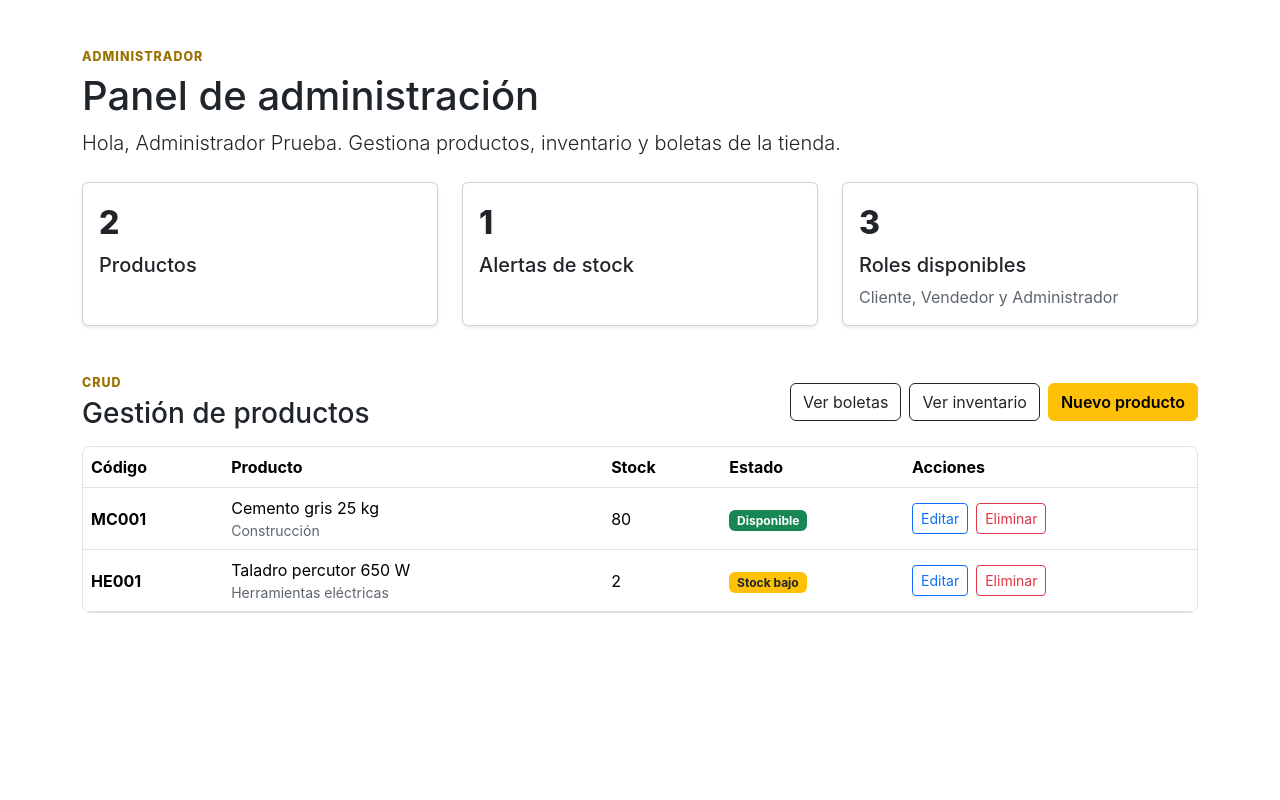
Integrante 3 - PanelAdmin › 28. carga un producto existente en el modal y envía sus cambios al actualizar
Click the button "Editar" in the row of "MC001" at {"x": 940, "y": 519}, box [912,503,968,534]
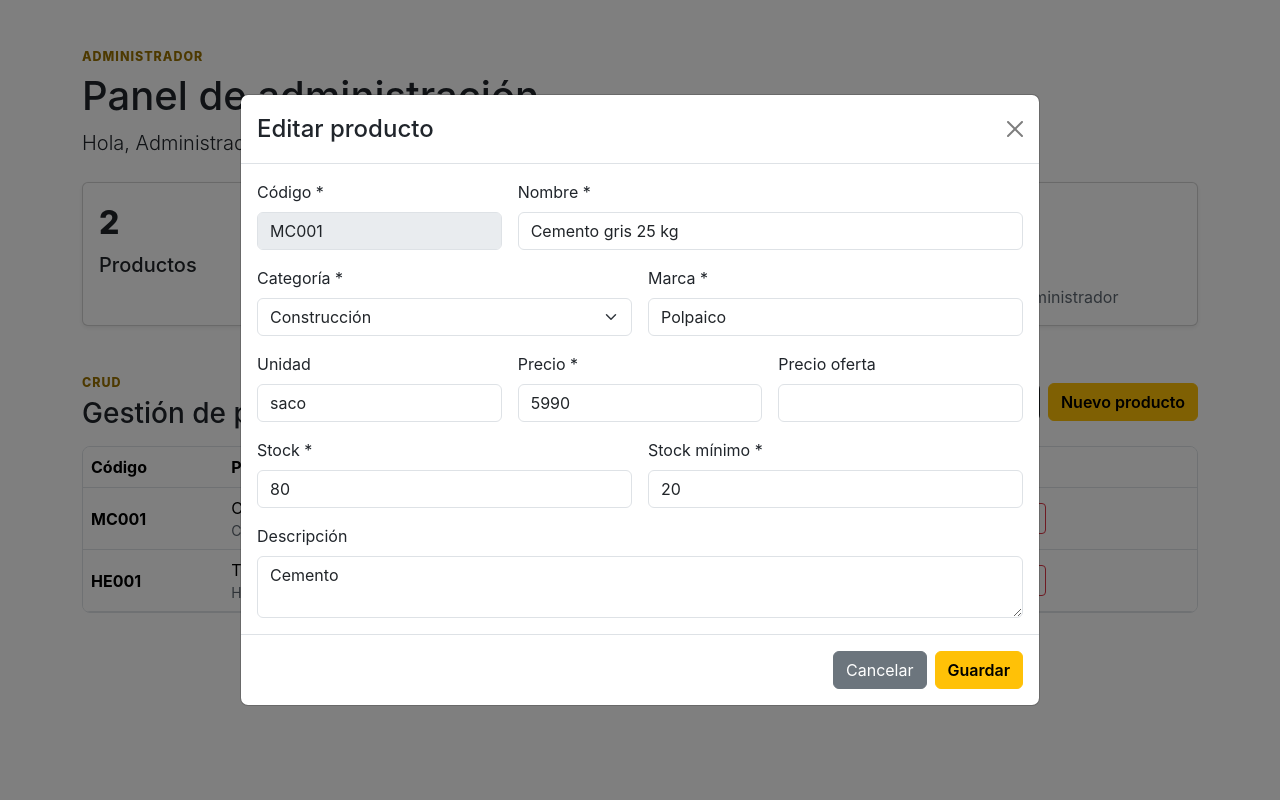
Now the field named "codigo" is disabled, box [257,212,502,250]
Now the number field named "precio" holds "5990"
Now the dropdown named "categoriaId" shows "Construcción", box [257,298,632,336]
Replace the text in the number field named "precio" with "6490" at {"x": 640, "y": 403}, box [518,384,762,422]
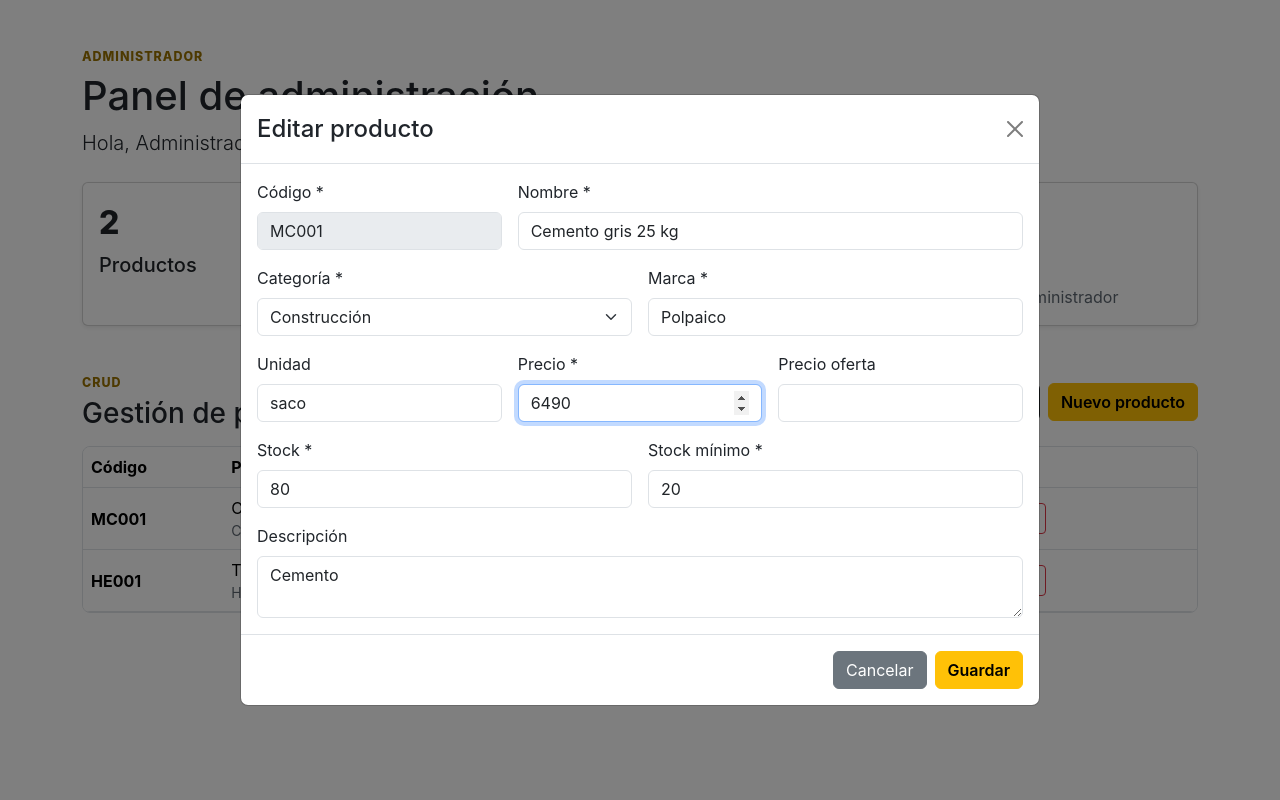
Click the button "Guardar" at {"x": 979, "y": 670}, box [934,651,1023,689]
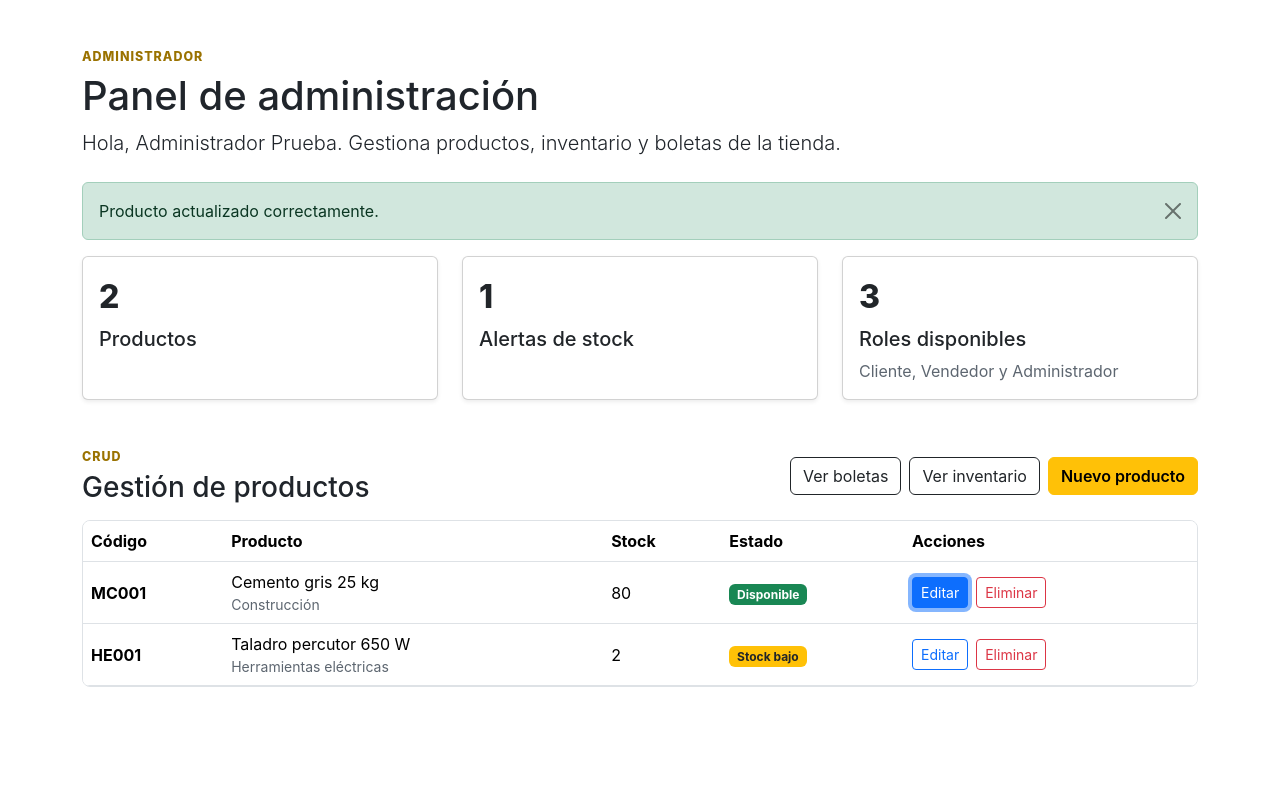
Now the text "Producto actualizado correctamente." is shown, box [82,182,1198,240]
